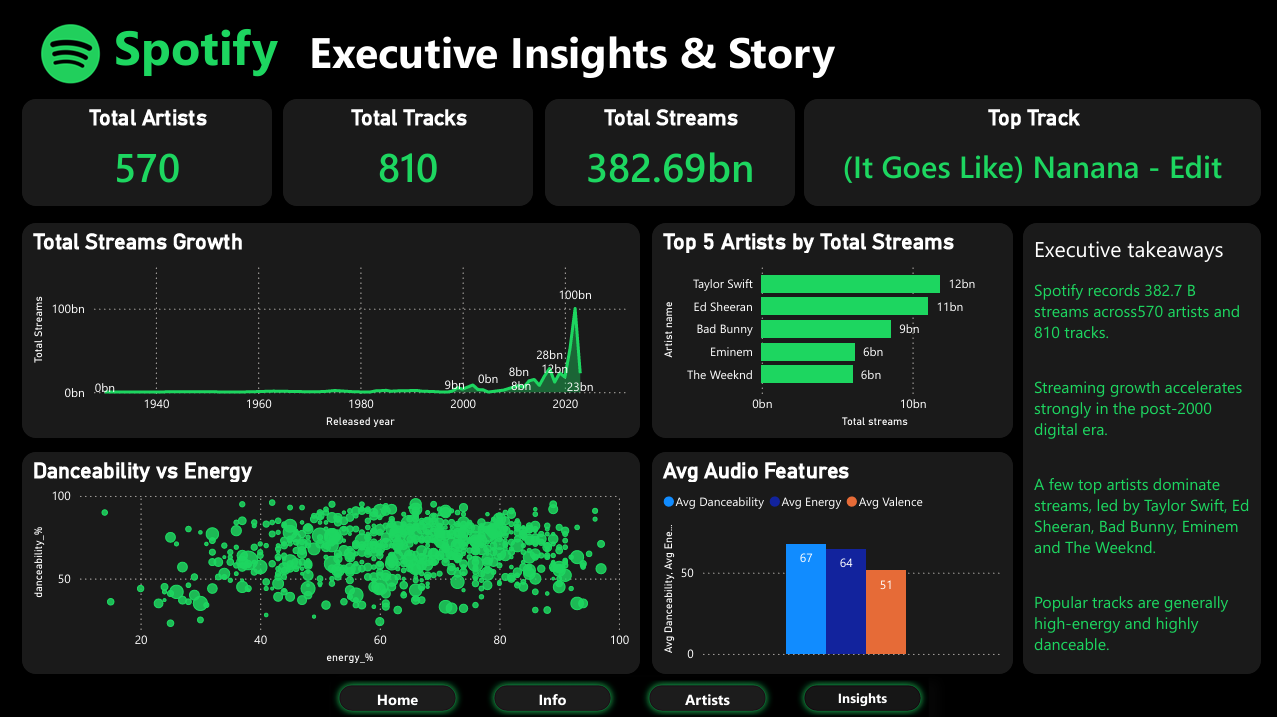

The dashboard page shown, as its layout file describes it:
{"tool":"powerbi","page":{"name":"Insights","canvas":[1280,720],"ordinal":3},"visuals":[{"type":"image","box":[0,8.8,141,91.4],"z":0},{"type":"textbox","box":[108.9,8.8,185.8,74.9],"z":1000},{"type":"textbox","box":[304.4,17.5,574.8,73.9],"z":2000},{"type":"cardVisual","title":"Total Streams","fields":{"Data":["spotify-2023.Total_Streams"]},"box":[544.7,100.2,250,107],"z":3000},{"type":"cardVisual","title":"Total Artists","fields":{"Data":["spotify-2023.Total Artists"]},"box":[22.4,100.2,250,107],"z":4000},{"type":"cardVisual","title":"Total Tracks","fields":{"Data":["spotify-2023.Total Tracks"]},"box":[283,100.2,250,107],"z":5000},{"type":"areaChart","title":"Total Streams Growth","fields":{"Category":["spotify-2023.released_year"],"Y":["spotify-2023.Total_Streams"]},"box":[22.4,223.7,617.6,215],"z":6000},{"type":"clusteredBarChart","title":"Top 5 Artists by Total Streams","fields":{"Y":["spotify-2023.Total_Streams"],"Category":["spotify-2023.artist(s)_name"]},"box":[651.7,223.7,360.9,215],"z":7000},{"type":"clusteredColumnChart","title":"Avg Audio Features","fields":{"Y":["spotify-2023.Avg Danceability","spotify-2023.Avg Energy","spotify-2023.Avg Valence"]},"box":[651.7,453.3,360.9,221.8],"z":8000},{"type":"scatterChart","title":"Danceability vs Energy","fields":{"X":["spotify-2023.energy_%"],"Size":["Sum(spotify-2023.streams)"],"Y":["spotify-2023.danceability_%"]},"box":[22.4,453.3,617.6,221.8],"z":9000},{"type":"cardVisual","title":"Top Track","fields":{"Data":["Min(spotify-2023.track_name)"]},"box":[804.4,100.2,456.2,107],"z":10000},{"type":"textbox","box":[1023.2,223.7,237.3,451.3],"z":11000},{"type":"pageNavigator","box":[330.7,677.9,598.2,41.8],"z":12000}]}

Visuals, with their boxes in screenshot pixels (x1, y1, x2, y2), scaled from the page's 1280x720 canvas onto the 1277x717 screenshot:
image: box=[0, 9, 141, 100]
textbox: box=[109, 9, 294, 83]
textbox: box=[304, 17, 877, 91]
"Total Streams" cardVisual: box=[543, 100, 793, 206]
"Total Artists" cardVisual: box=[22, 100, 272, 206]
"Total Tracks" cardVisual: box=[282, 100, 532, 206]
"Total Streams Growth" areaChart: box=[22, 223, 638, 437]
"Top 5 Artists by Total Streams" clusteredBarChart: box=[650, 223, 1010, 437]
"Avg Audio Features" clusteredColumnChart: box=[650, 451, 1010, 672]
"Danceability vs Energy" scatterChart: box=[22, 451, 638, 672]
"Top Track" cardVisual: box=[803, 100, 1258, 206]
textbox: box=[1021, 223, 1258, 672]
pageNavigator: box=[330, 675, 927, 716]
